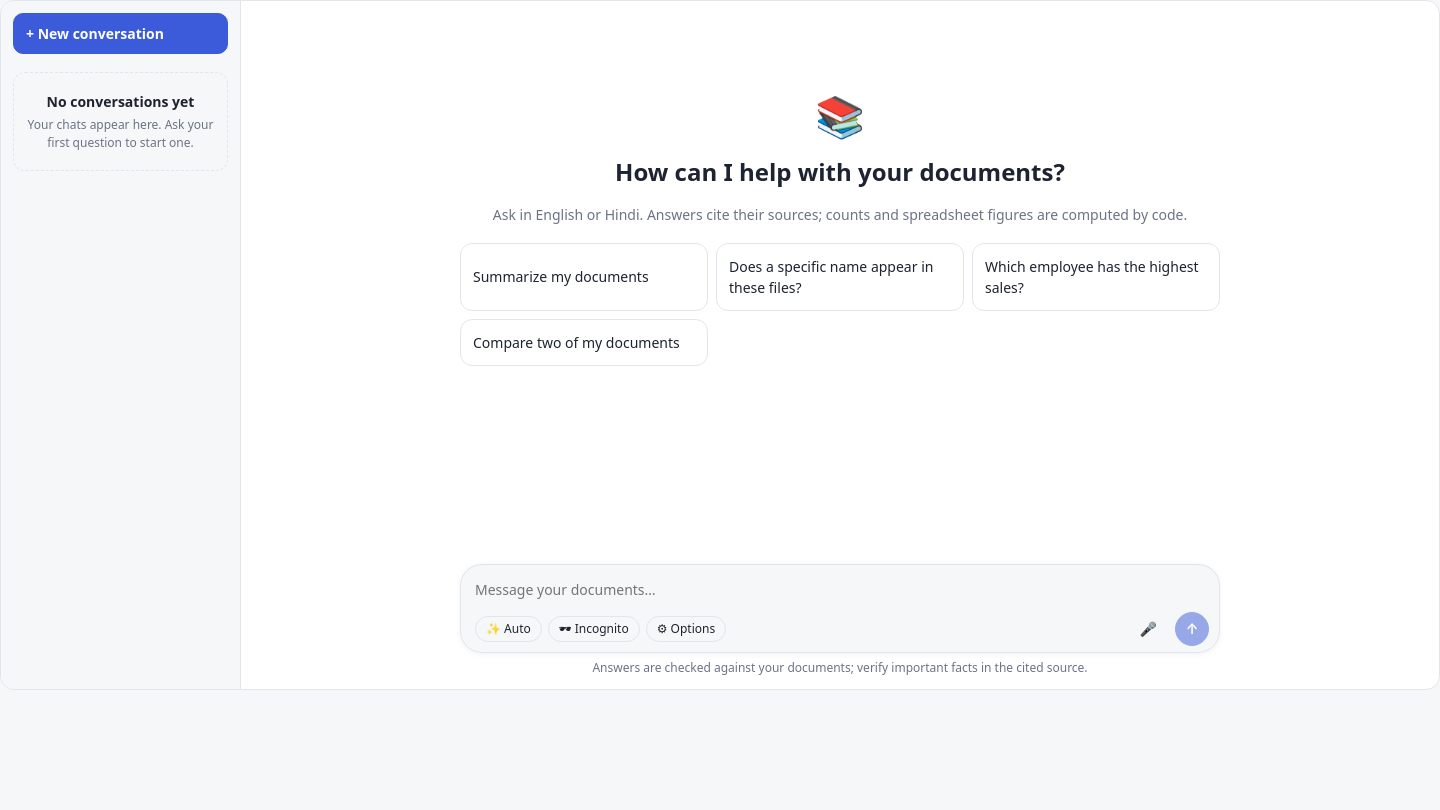
it: Chat › shows the answer with confidence, citations, limitations and follow-ups
Type "How many leave days?" into the text box named "Question" at (842, 590), box [475,573,1209,606]
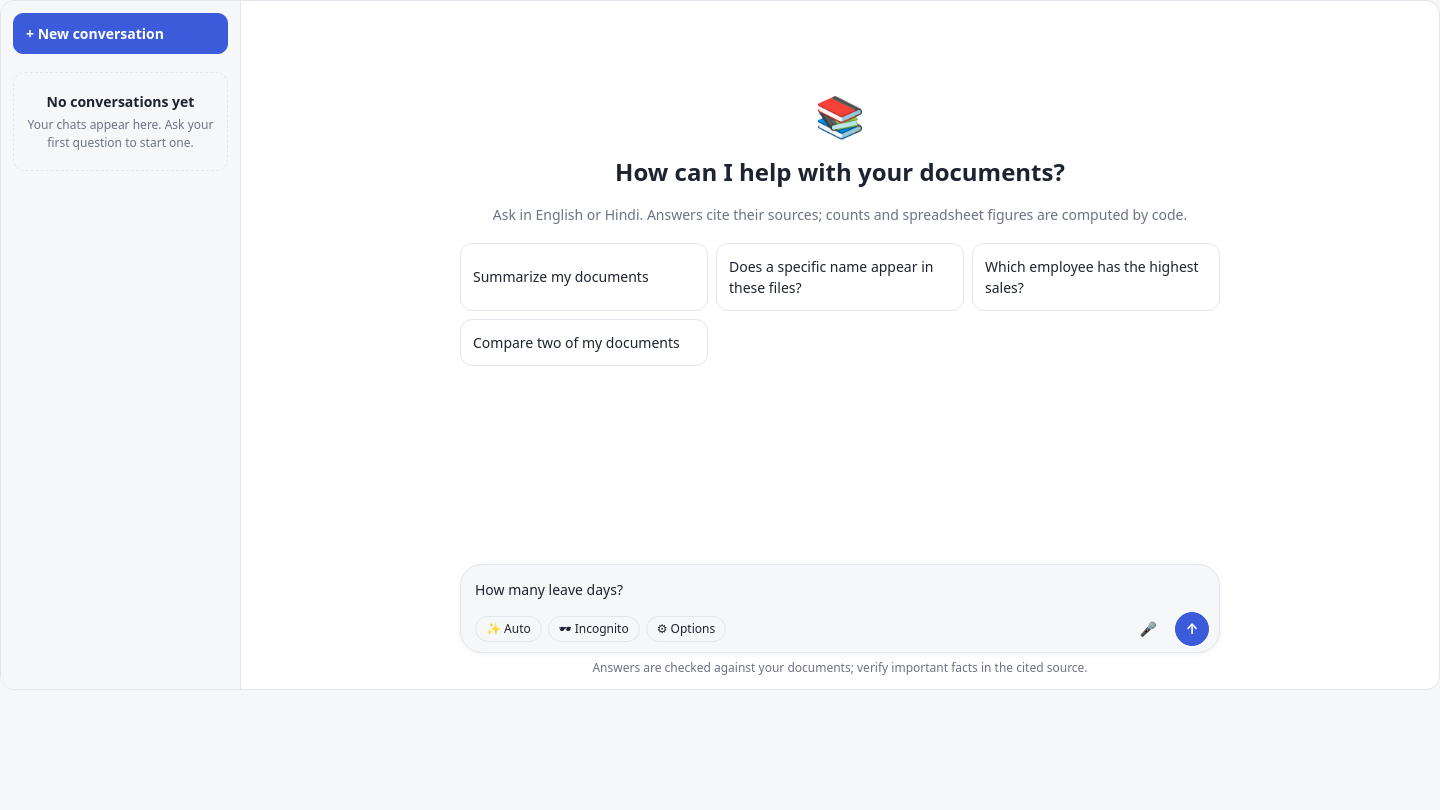
Click the button named "Ask" at (1192, 628), box [1175,612,1209,646]
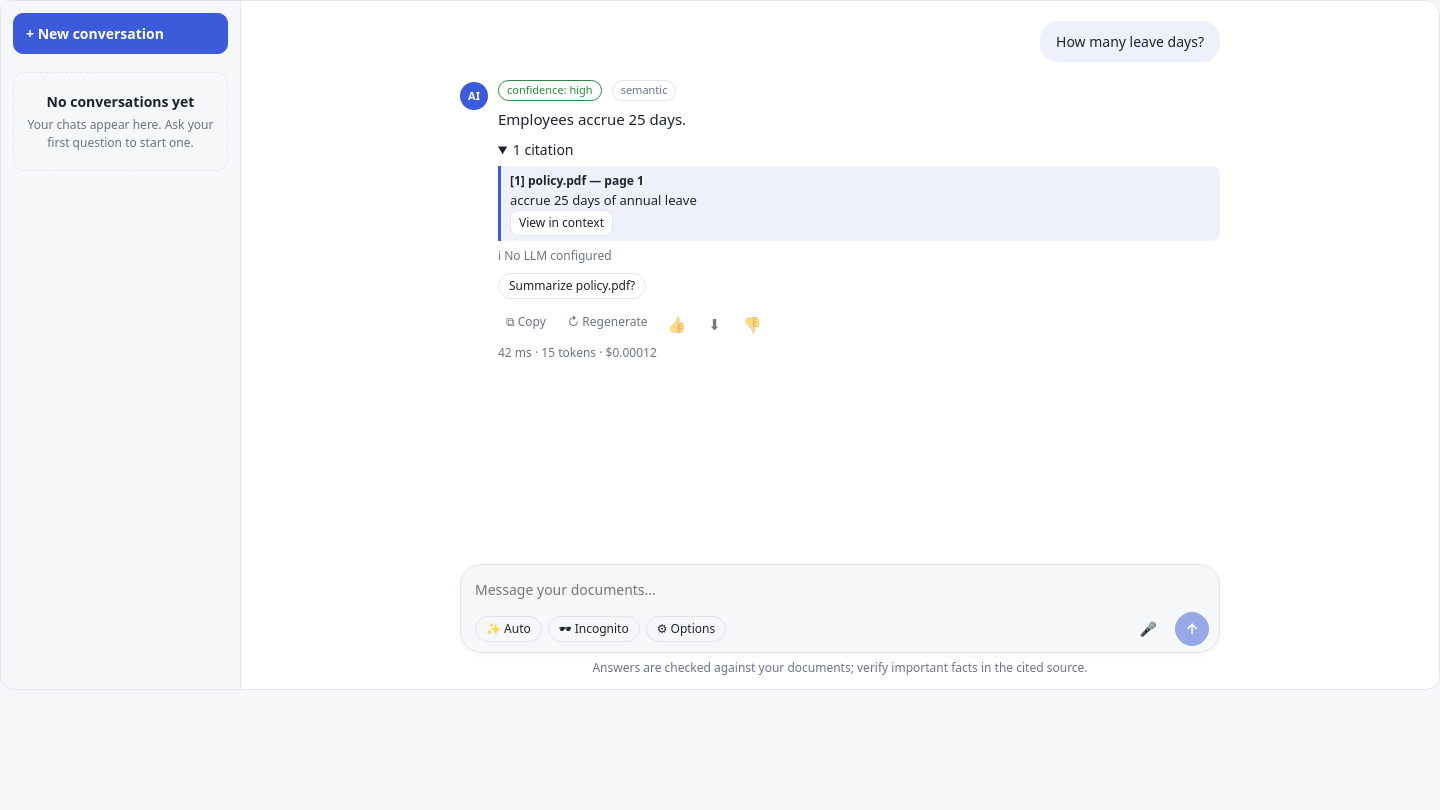
expect the text "Employees accrue 25 days." is shown: met, box [498,108,686,128]
expect the text "confidence: high" is shown: met, box [498,80,602,100]
expect the text "[1] policy.pdf — page 1" is shown: met, box [510,172,644,189]
